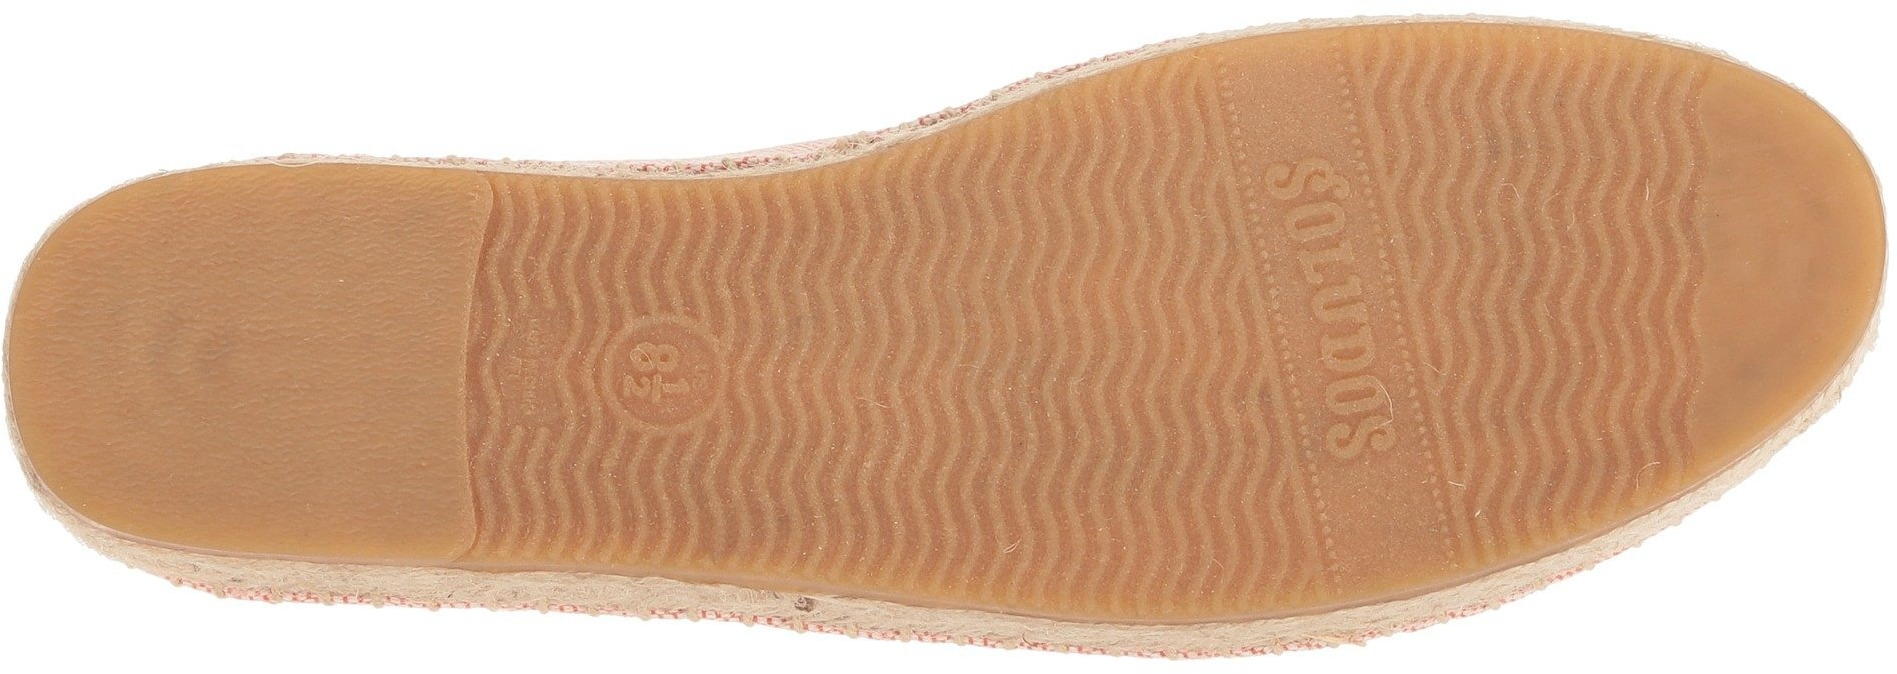chevron: (756, 182, 1049, 472), (1438, 276, 1672, 496), (1388, 38, 1618, 260), (1056, 313, 1280, 531), (999, 119, 1218, 321), (497, 442, 638, 564)
circle: (593, 288, 740, 424)
other: (115, 213, 405, 500), (1718, 152, 1876, 318)
text: (1282, 309, 1437, 470), (1242, 139, 1394, 301), (617, 334, 702, 428)
